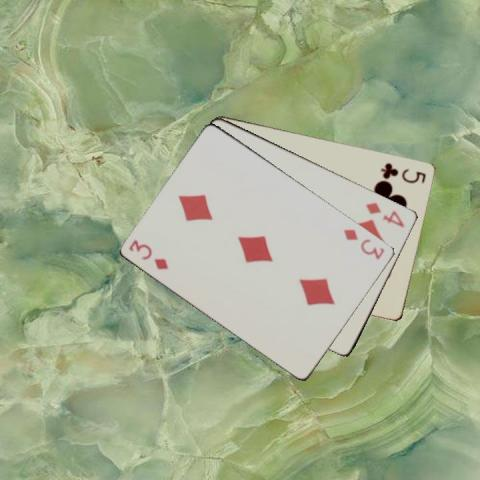3d: (340, 226, 387, 262), (126, 237, 170, 271)
4d: (363, 199, 407, 229)
5c: (378, 159, 428, 184)
